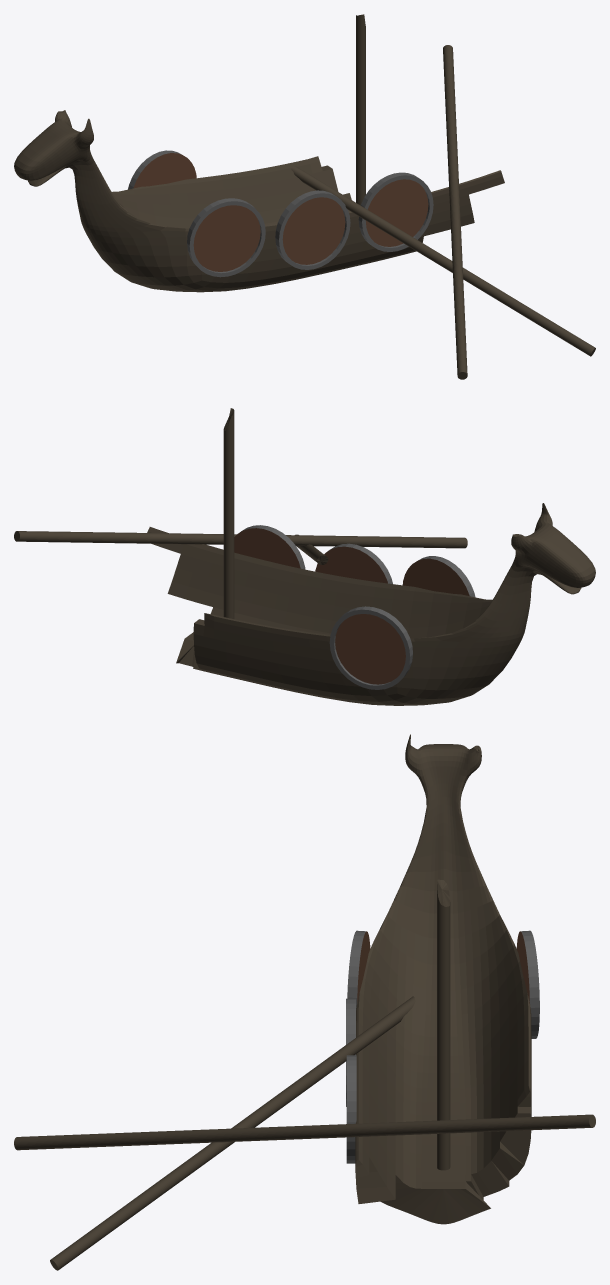
File: broken_drakkar.fbx
3 renders of one model, top to bottom at view 1: azimuth 30°, elevation 25°; view 2: azimuth 150°, elevation 25°; view 3: azimuth 270°, elevation 25°, orthographic. The views are drawn at different scales.
Visible parts, largest first — view 1: coque, shield, mast, shield.002, shield.003, mast.001; view 2: coque, shield, mast.001, mast, shield.003, shield.002; view 3: coque, mast, mast.001, shield, shield.003.
Boxes of the visible parts, x1,y1,x2,y2 form: coque: [14, 110, 504, 292]; shield: [128, 150, 265, 277]; mast: [291, 14, 595, 356]; shield.002: [275, 190, 350, 269]; shield.003: [358, 172, 433, 251]; mast.001: [443, 45, 467, 379]; coque: [147, 503, 595, 705]; shield: [329, 556, 475, 689]; mast.001: [14, 531, 467, 548]; mast: [223, 408, 328, 618]; shield.003: [234, 525, 305, 569]; shield.002: [315, 543, 392, 583]; coque: [355, 734, 531, 1224]; mast: [50, 879, 450, 1270]; mast.001: [14, 1114, 595, 1150]; shield: [347, 930, 539, 1038]; shield.003: [346, 1055, 356, 1163].
Size of the model in its own units: 845 by 421 by 660.
